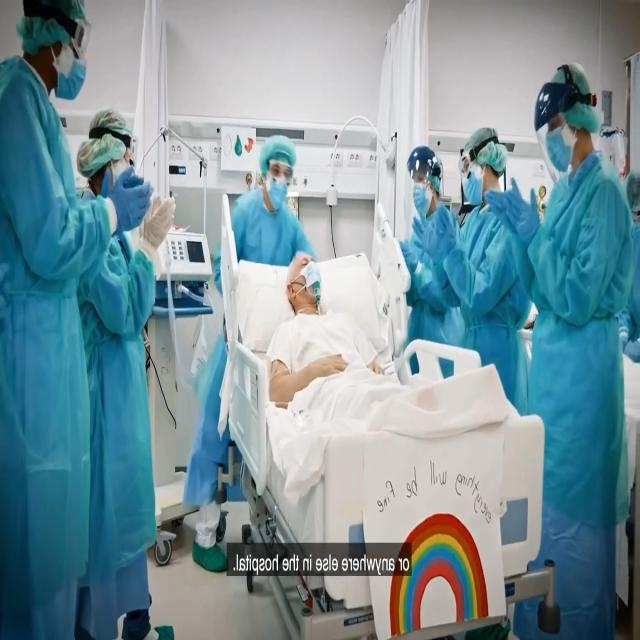Movement-NO: (257, 246, 365, 404)
